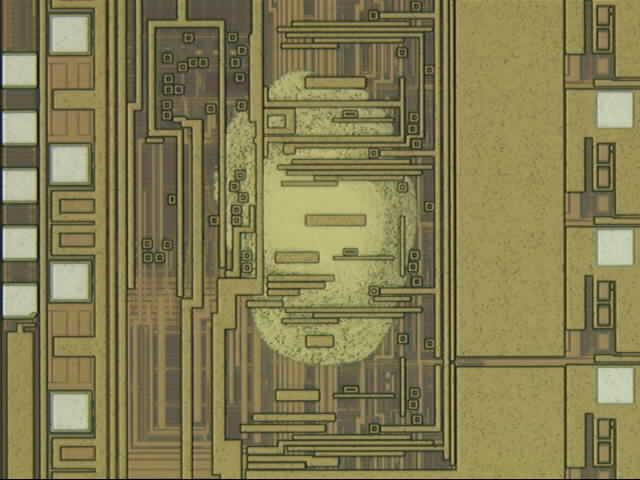BLOCK ETCH: (210, 68, 430, 371)
